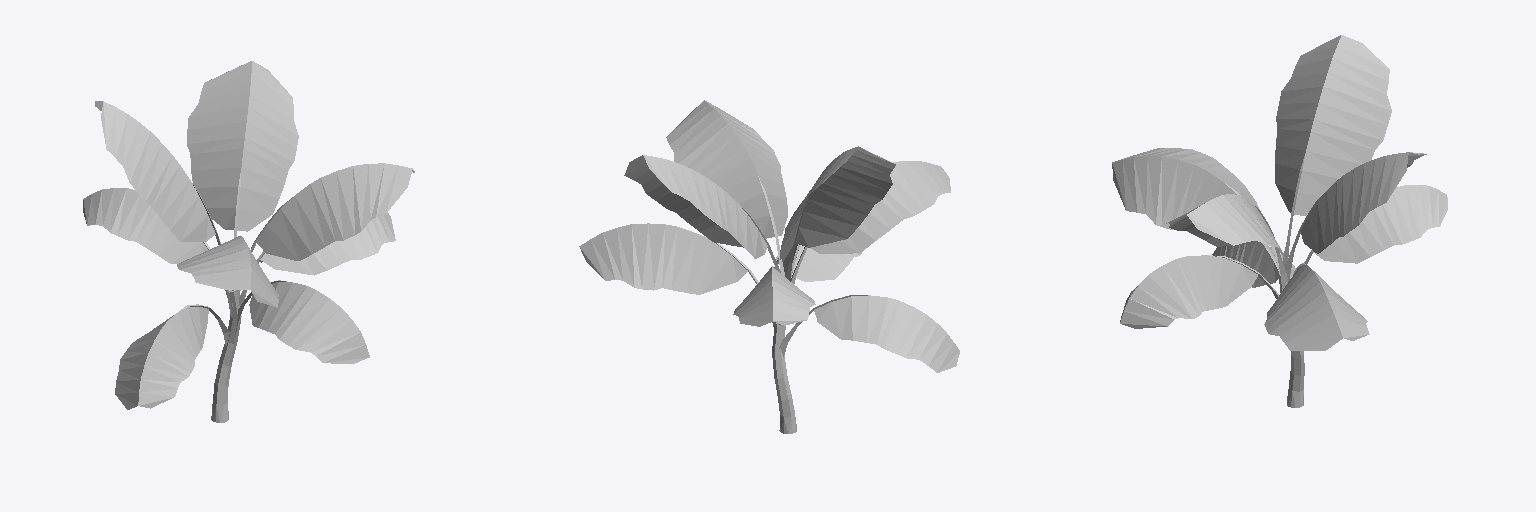
File: banana plant 01_lod1.obj
The picture shows the model from 3 angles: view 1: azimuth 30°, elevation 25°; view 2: azimuth 150°, elevation 25°; view 3: azimuth 270°, elevation 25°; orthographic projection.
Parts seen in each view (by area): view 1: tree; view 2: tree; view 3: tree.
Boxes of the visible parts, x1,y1,x2,y2 form: tree: [83, 61, 414, 422]; tree: [579, 100, 959, 433]; tree: [1112, 35, 1447, 407].
Size of the model in its own units: 278 by 272 by 255.